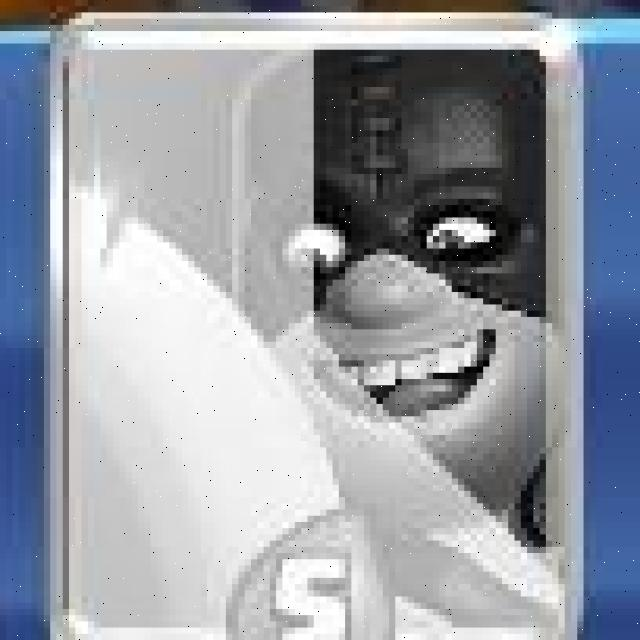Executioner: (45, 10, 587, 640)
